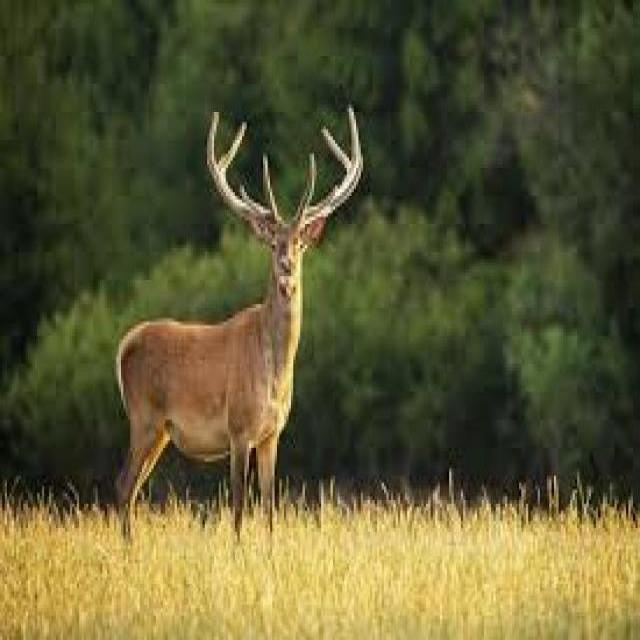deer: (110, 106, 364, 522)
